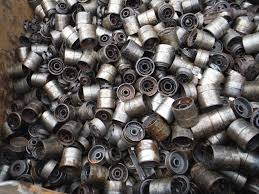metal: (108, 90, 156, 124), (202, 140, 245, 173), (28, 133, 69, 165), (112, 118, 148, 154), (225, 113, 259, 151), (166, 94, 201, 129), (56, 142, 89, 178), (160, 146, 195, 178), (131, 135, 162, 170), (55, 114, 88, 146), (201, 12, 233, 42), (184, 24, 217, 52), (145, 172, 187, 194), (150, 41, 177, 74), (194, 81, 222, 112), (220, 24, 247, 56), (94, 86, 124, 114), (50, 99, 88, 121), (16, 96, 48, 122), (133, 23, 162, 50), (92, 42, 123, 66), (17, 48, 48, 72), (132, 53, 159, 80), (131, 73, 160, 98), (101, 172, 133, 194), (157, 72, 182, 100), (55, 23, 83, 48), (117, 10, 142, 38), (61, 44, 88, 69), (94, 59, 118, 87), (75, 21, 99, 48), (25, 67, 54, 89), (76, 47, 99, 74), (44, 54, 68, 79), (39, 78, 65, 101), (174, 9, 202, 30), (49, 9, 74, 30)
